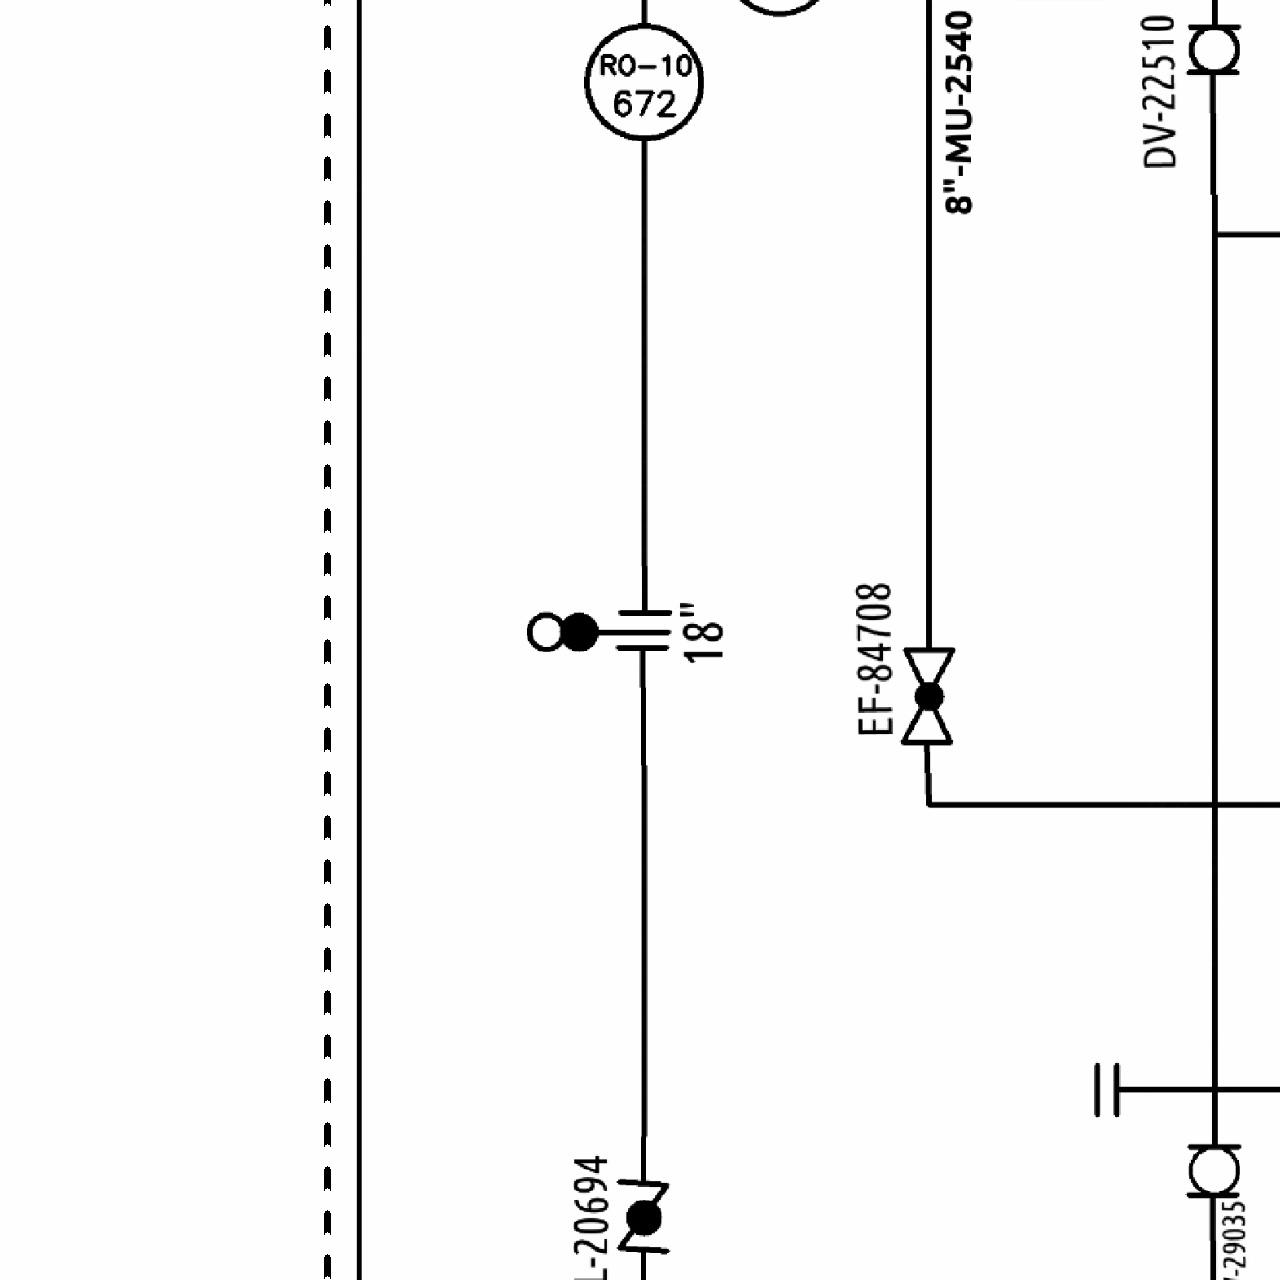Control-Panel: (579, 18, 707, 145)
